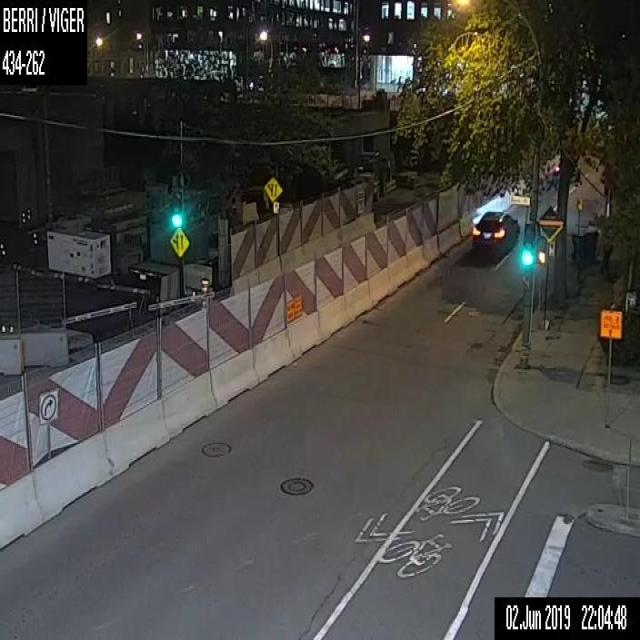construction: (600, 308, 623, 425), (200, 277, 208, 303)
vehicle: (470, 210, 521, 250)
